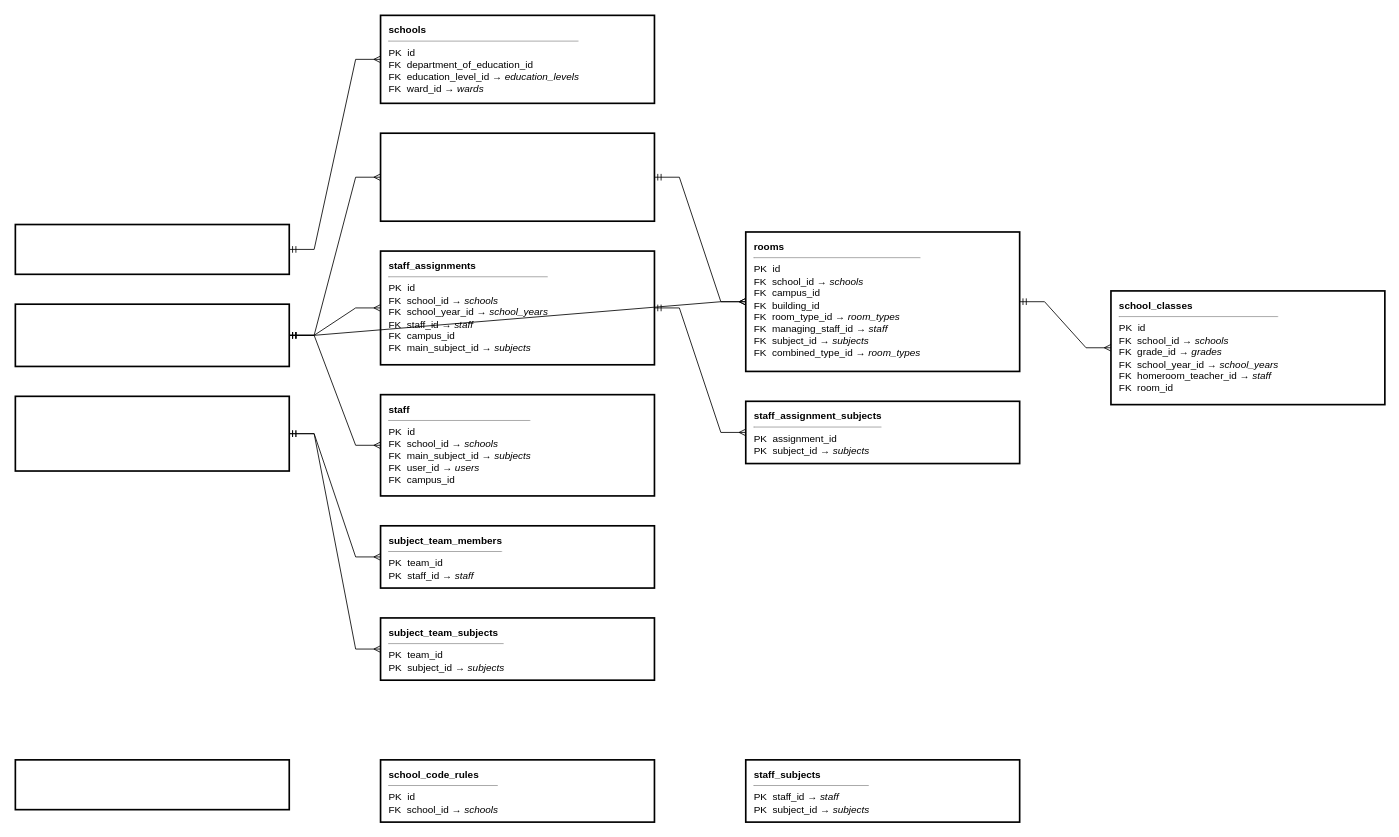
The diagram is 1399 pixels wide and 837 high, and some of its shapes have lost their labels. The box of each missing label's shape, as (x1, y1, x2, y2) in pixels:
buildings PK id FK school_id → schools FK campus_id FK managing_staff_id → staff: (379, 132, 655, 222)
campuses PK id FK school_id → schools: (14, 303, 290, 367)
departments_of_education PK id: (14, 223, 290, 275)
school_logos PK school_id → schools: (14, 759, 290, 810)
subject_teams PK id FK school_id → schools FK leader_id → staff: (14, 395, 290, 471)
